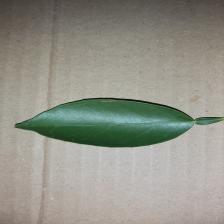healthy: (16, 96, 196, 152)
